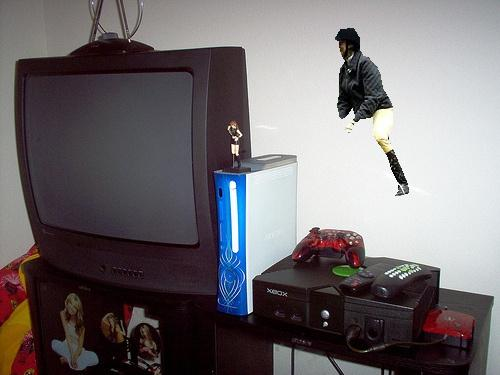tampered: (336, 29, 409, 196)
